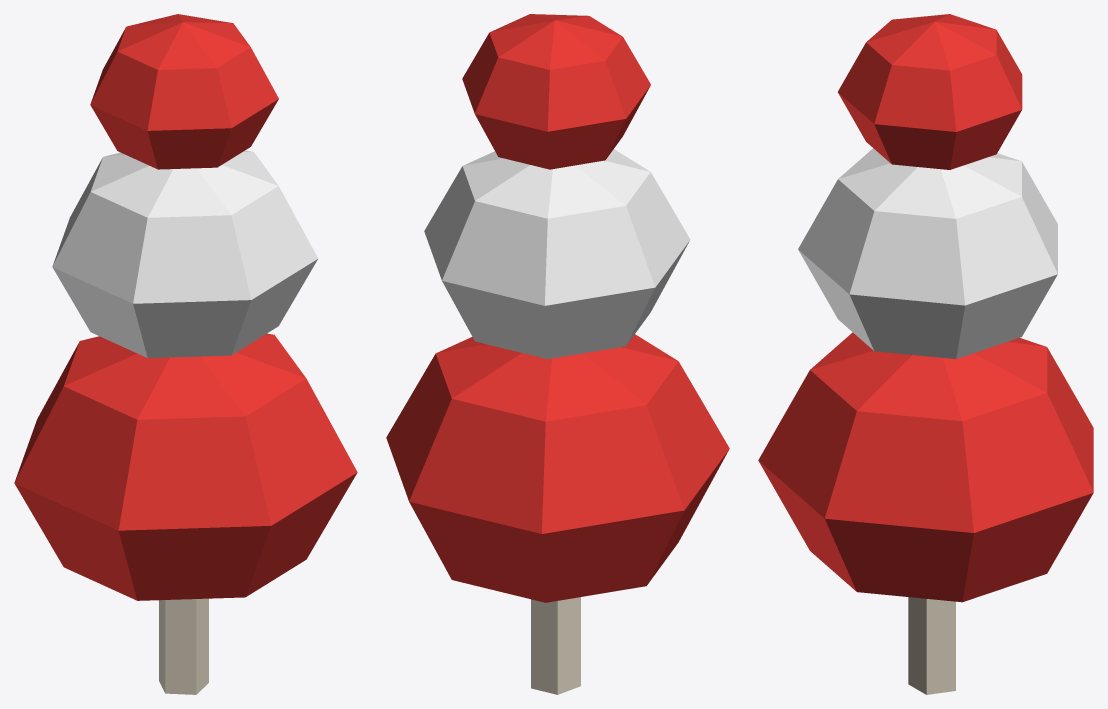
File: land_tree_toy_stack.glb
3 views of the same model, side by side, from view 1: azimuth 30°, elevation 25°; view 2: azimuth 150°, elevation 25°; view 3: azimuth 270°, elevation 25° (orthographic).
Size of the model in its own units: 3.9 by 8.28 by 3.8.
